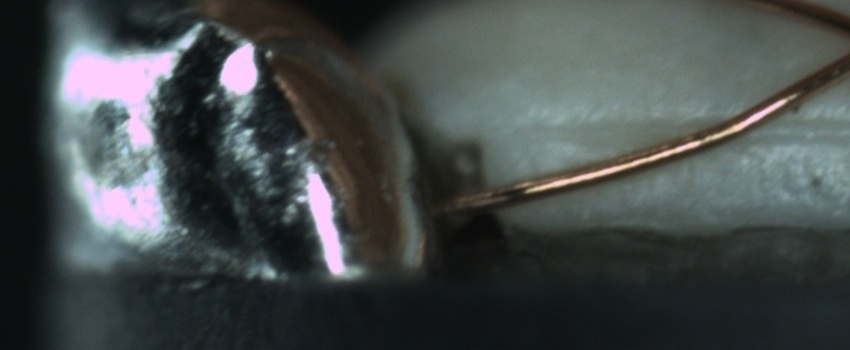DL: (531, 96, 850, 162)
